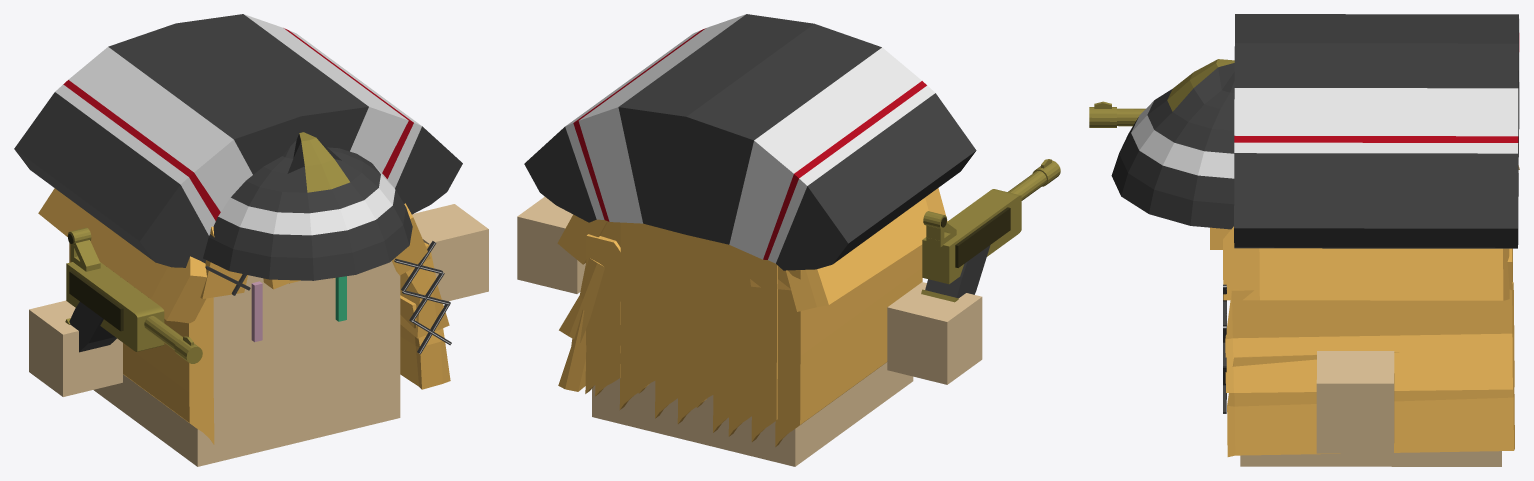
The model's file is Stora_Select.fbx.
The picture shows the model from 3 angles, left to right: view 1: azimuth 30°, elevation 25°; view 2: azimuth 150°, elevation 25°; view 3: azimuth 270°, elevation 25°; orthographic projection. The views are drawn at different scales.
Parts seen in each view (by area): view 1: Cube.005, Cube.003, Sphere, Cube.020, Cube.089, Cube.008, Cube.017, Cube, Cube.007, Cube.001, Cube.014, Cube.011 (+5 smaller); view 2: Cube.005, Cube.089, Cube.008, Cube.002, Cube.020, Cube.017, Cube.085, Cube.088, Cube.084, Cube.081, Cube.003, Cube.083 (+12 smaller); view 3: Cube.005, Cube.001, Sphere, Cube.021, Cube.007, Cube.017, Cube.002, Cylinder.001.
Boxes of the visible parts, bbox=[...] form: Cube.005: bbox=[14, 14, 462, 267]; Cube.003: bbox=[94, 261, 400, 466]; Sphere: bbox=[203, 132, 412, 280]; Cube.020: bbox=[38, 188, 206, 323]; Cube.089: bbox=[69, 243, 214, 444]; Cube.008: bbox=[29, 300, 122, 396]; Cube.017: bbox=[412, 204, 488, 301]; Cube: bbox=[66, 262, 164, 351]; Cube.007: bbox=[400, 295, 450, 389]; Cube.001: bbox=[400, 242, 449, 338]; Cube.014: bbox=[69, 271, 123, 331]; Cube.011: bbox=[69, 302, 116, 352]; Cube.005: bbox=[524, 14, 976, 270]; Cube.089: bbox=[775, 244, 922, 446]; Cube.008: bbox=[887, 282, 982, 384]; Cube.002: bbox=[592, 378, 805, 466]; Cube.020: bbox=[786, 188, 947, 311]; Cube.017: bbox=[517, 196, 585, 293]; Cube.085: bbox=[713, 241, 738, 432]; Cube.088: bbox=[751, 255, 777, 441]; Cube.084: bbox=[655, 227, 680, 418]; Cube.081: bbox=[619, 222, 648, 409]; Cube.003: bbox=[795, 362, 913, 466]; Cube.083: bbox=[638, 223, 664, 393]; Cube.005: bbox=[1234, 14, 1519, 248]; Cube.001: bbox=[1225, 282, 1514, 392]; Sphere: bbox=[1111, 59, 1234, 229]; Cube.021: bbox=[1223, 226, 1509, 300]; Cube.007: bbox=[1227, 352, 1514, 456]; Cube.017: bbox=[1316, 351, 1394, 453]; Cube.002: bbox=[1240, 451, 1501, 466]; Cylinder.001: bbox=[1089, 107, 1116, 127].
Size of the model in its own units: 422 by 329 by 310.
